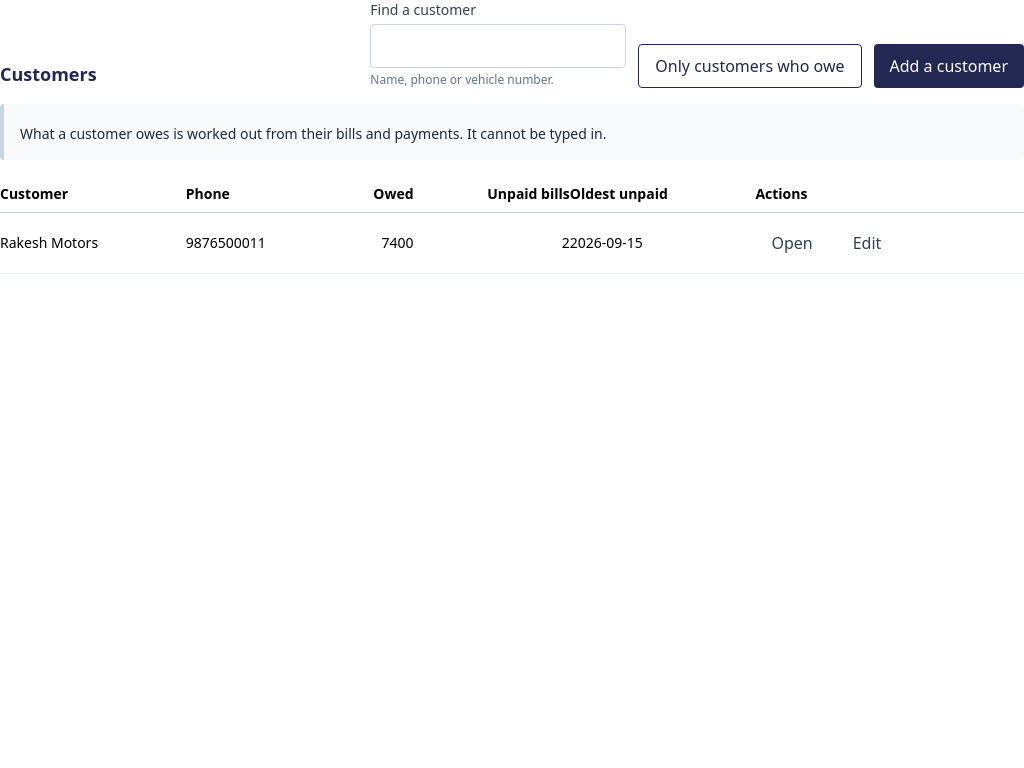
Test: the detail view › shows payments received, including a reversal as its own row
Check: the text "Rakesh Motors" is shown, box [0,213,186,274]
Step 1. Click the button "Open" → coordinates (792, 243), box [755,221,829,265]
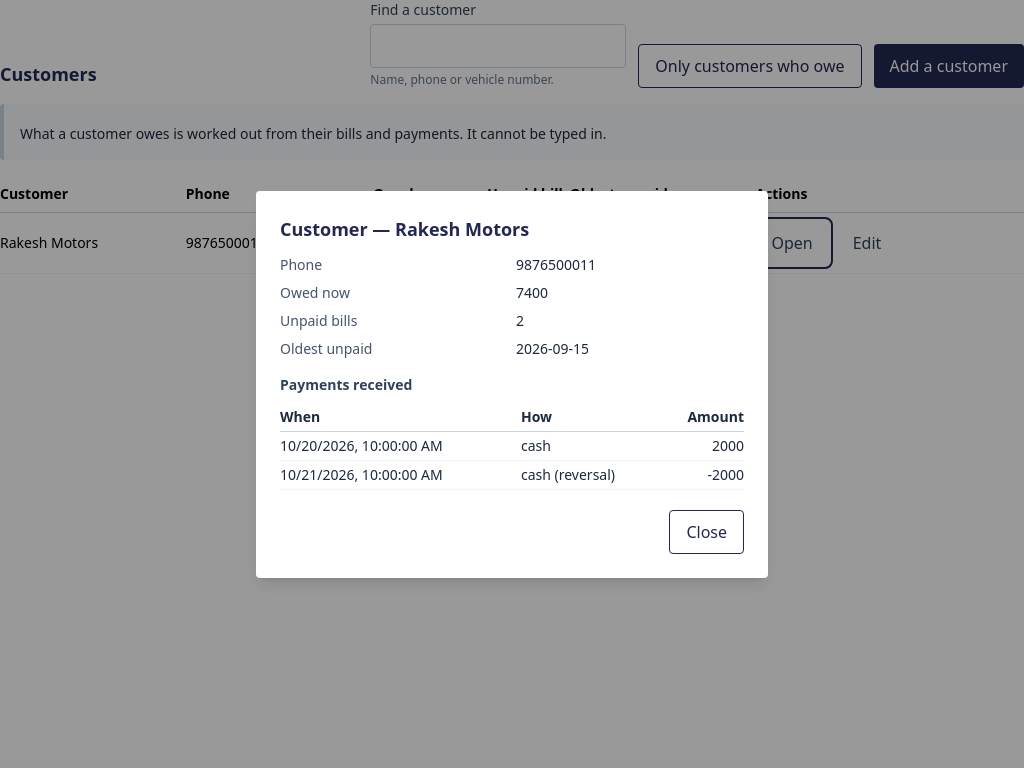
Check: the text "cash (reversal)" is shown, box [521,460,660,489]
Check: the text "2000" is shown, box [660,432,744,460]
